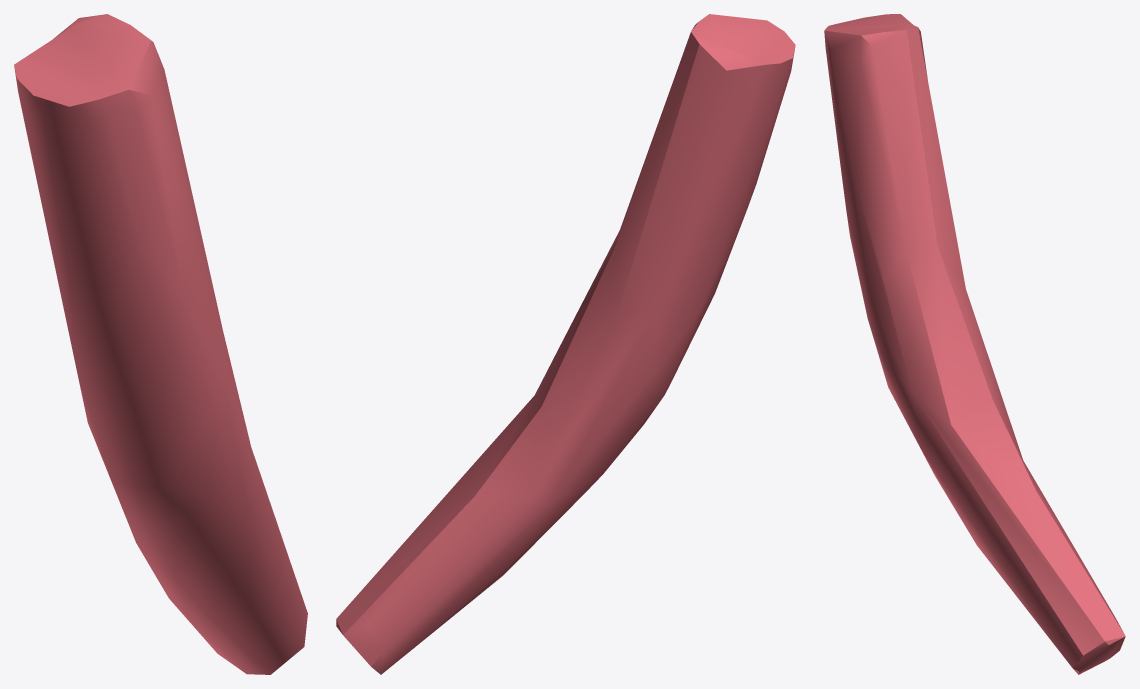
The model's file is fma8647_fj2892.glb.
3 renders of one model, left to right at view 1: azimuth 30°, elevation 25°; view 2: azimuth 150°, elevation 25°; view 3: azimuth 270°, elevation 25°, orthographic. The views are drawn at different scales.
Visible parts, largest first — view 1: FMA8647_FJ2892; view 2: FMA8647_FJ2892; view 3: FMA8647_FJ2892.
Boxes of the visible parts, x1,y1,x2,y2 form: FMA8647_FJ2892: (14, 14, 307, 674); FMA8647_FJ2892: (336, 14, 795, 674); FMA8647_FJ2892: (824, 14, 1125, 674).
Size of the model in its own units: 0.0101 by 0.0182 by 0.00907.
